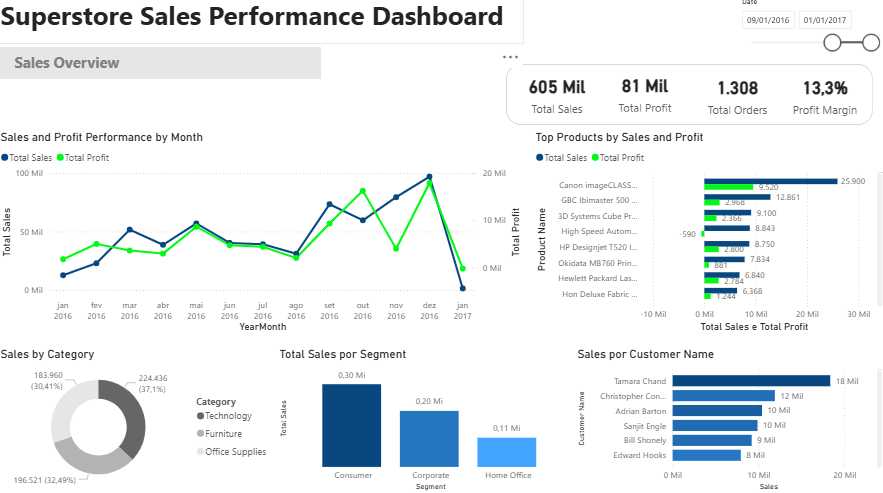

The page's visual inventory and layout, read from the dashboard file:
{"tool":"powerbi","page":{"name":"Sales Overview","canvas":[1280,720],"ordinal":0},"visuals":[{"type":"shape","box":[0,76.3,466.6,46.1],"z":0},{"type":"shape","box":[733,100.8,528.5,87.8],"z":1000},{"type":"lineChart","title":"Sales and Profit Performance by Month","fields":{"Y":["Superstore.1. Total Sales"],"Y2":["Superstore.2. Total Profit"],"Category":["dcalendar.YearMonth"]},"box":[0,195.8,758.9,296.6],"z":2000},{"type":"slicer","fields":{"Values":["dcalendar.Date"]},"box":[1059.8,0,220.3,93.6],"z":3000},{"type":"card","fields":{"Values":["Superstore.1. Total Sales"]},"box":[744.5,105.1,123.8,74.9],"z":4000},{"type":"card","fields":{"Values":["Superstore.2. Total Profit"]},"box":[868.3,109.4,129.6,64.8],"z":5000},{"type":"card","fields":{"Values":["Superstore.3. Total Orders"]},"box":[997.9,109.4,136.8,70.6],"z":6000},{"type":"card","fields":{"Values":["Superstore.4. Profit Margin"]},"box":[1129,109.4,126.7,70.6],"z":7000},{"type":"textbox","box":[0,0,758.9,72],"z":8000},{"type":"clusteredBarChart","title":"Top Products by Sales and Profit","fields":{"Category":["Superstore.Product Name"],"Y":["Superstore.1. Total Sales","Superstore.2. Total Profit"]},"box":[770.4,195.8,509.8,296.6],"z":9000},{"type":"donutChart","title":"Sales by Category","fields":{"Category":["Superstore.Category"],"Y":["Superstore.1. Total Sales"]},"box":[0,508.3,401.8,211.7],"z":10000},{"type":"textbox","box":[20.2,79.2,263.5,40.3],"z":11000},{"type":"columnChart","fields":{"Y":["Superstore.1. Total Sales"],"Category":["Superstore.Segment"]},"box":[401.8,508.3,429.1,211.7],"z":11001},{"type":"barChart","fields":{"Category":["Superstore.Customer Name"],"Y":["Sum(Superstore.Sales)"]},"box":[830.9,508.3,449.3,211.7],"z":11002}]}

Visuals, with their boxes in screenshot pixels (x1, y1, x2, y2), scaled from the page's 1280x720 canvas onto the 883x493 screenshot:
shape: Rect(0, 52, 322, 84)
shape: Rect(506, 69, 870, 129)
"Sales and Profit Performance by Month" lineChart: Rect(0, 134, 524, 337)
slicer - dcalendar.Date: Rect(731, 0, 882, 64)
card - Superstore.1. Total Sales: Rect(514, 72, 599, 123)
card - Superstore.2. Total Profit: Rect(599, 75, 688, 119)
card - Superstore.3. Total Orders: Rect(688, 75, 783, 123)
card - Superstore.4. Profit Margin: Rect(779, 75, 866, 123)
textbox: Rect(0, 0, 524, 49)
"Top Products by Sales and Profit" clusteredBarChart: Rect(531, 134, 882, 337)
"Sales by Category" donutChart: Rect(0, 348, 277, 492)
textbox: Rect(14, 54, 196, 82)
columnChart - Superstore.1. Total Sales x Superstore.Segment: Rect(277, 348, 573, 492)
barChart - Superstore.Customer Name x Sum(Superstore.Sales): Rect(573, 348, 882, 492)
